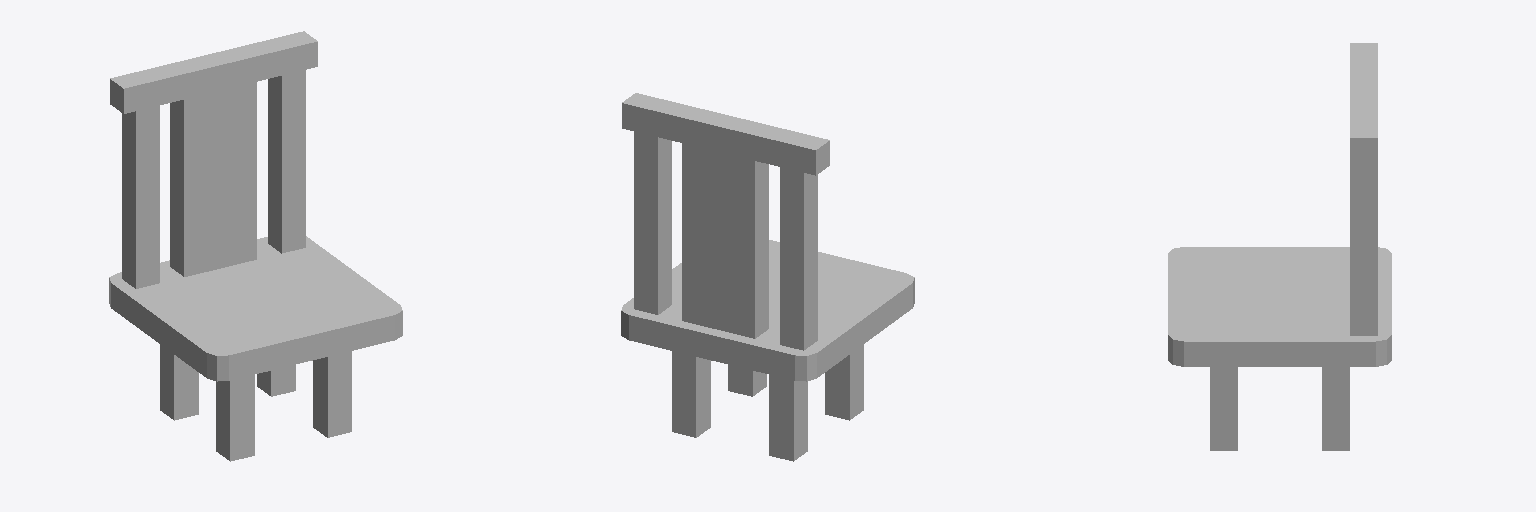
Rendered from chair.obj.
3 renders of one model, left to right at view 1: azimuth 30°, elevation 25°; view 2: azimuth 150°, elevation 25°; view 3: azimuth 270°, elevation 25°, orthographic.
Visible parts, largest first — view 1: Cube_Cube.001; view 2: Cube_Cube.001; view 3: Cube_Cube.001.
Boxes of the visible parts, box(x1,y1,x2,y2) form: Cube_Cube.001: box(109, 31, 402, 461); Cube_Cube.001: box(621, 93, 914, 461); Cube_Cube.001: box(1168, 43, 1391, 450).
Bounding box in the file's own units: 0.8 × 1.3 × 0.8.